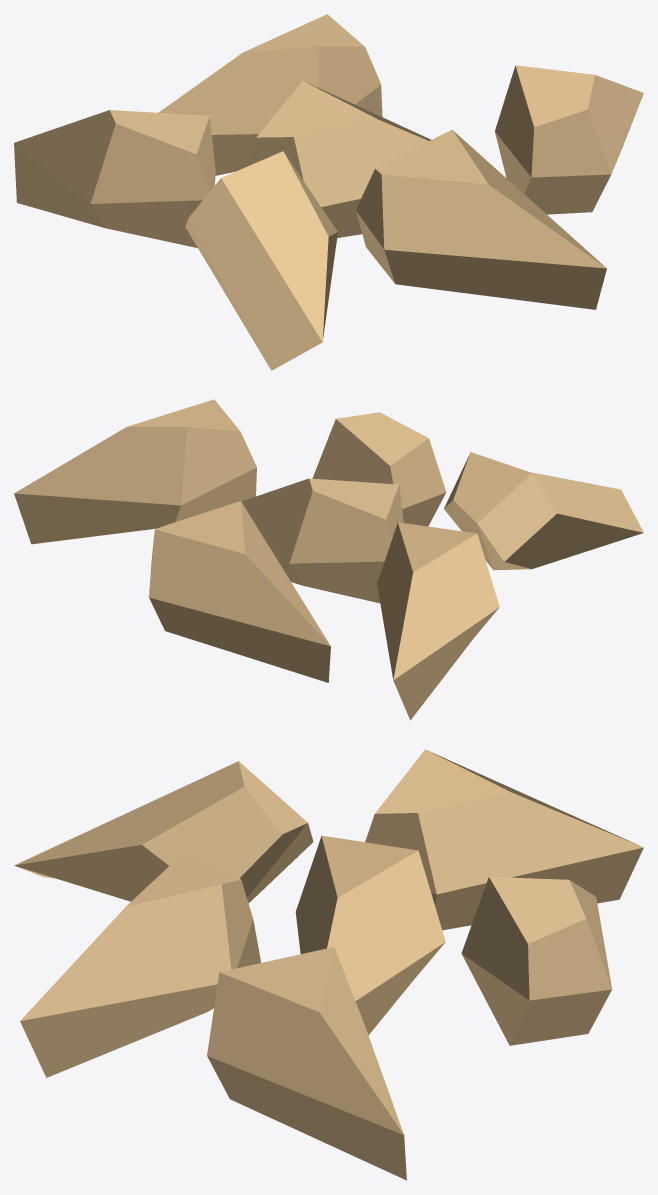
Rendered from seeds.fbx.
3 renders of one model, top to bottom at view 1: azimuth 30°, elevation 25°; view 2: azimuth 150°, elevation 25°; view 3: azimuth 270°, elevation 25°, orthographic. The views are drawn at different scales.
Visible parts, largest first — view 1: Cube.004, Cube.001, Cube.003, Cube.002, Cube.005, Cube; view 2: Cube.002, Cube.005, Cube.001, Cube.003, Cube, Cube.004; view 3: Cube.002, Cube.004, Cube.001, Cube.003, Cube.005, Cube.
Part boxes in pixels (<box>): Cube.004: <box>356,130,606,309</box>; Cube.001: <box>14,110,215,247</box>; Cube.003: <box>185,151,337,370</box>; Cube.002: <box>495,65,643,214</box>; Cube.005: <box>158,14,382,175</box>; Cube: <box>246,81,431,237</box>; Cube.002: <box>14,399,256,544</box>; Cube.005: <box>149,501,330,682</box>; Cube.001: <box>377,522,499,720</box>; Cube.003: <box>444,452,643,570</box>; Cube: <box>241,478,403,603</box>; Cube.004: <box>312,412,446,526</box>; Cube.002: <box>207,947,406,1180</box>; Cube.004: <box>20,851,261,1077</box>; Cube.001: <box>365,749,643,930</box>; Cube.003: <box>14,761,313,903</box>; Cube.005: <box>461,876,612,1045</box>; Cube: <box>295,835,445,1035</box>.
Bounding box in the file's own units: 366 × 95.91 × 326.
